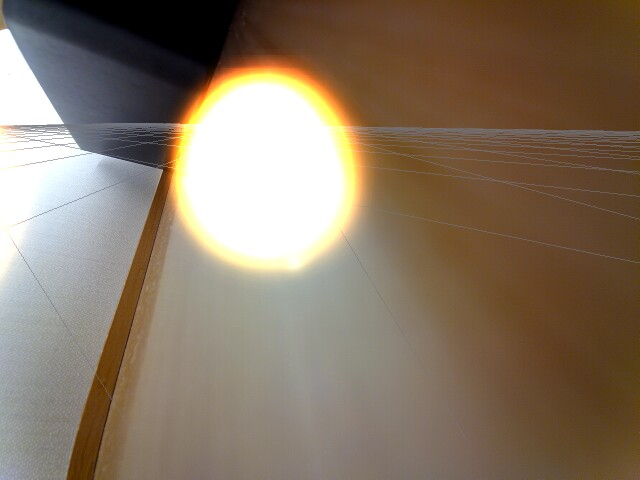firebig: (153, 51, 364, 284)
